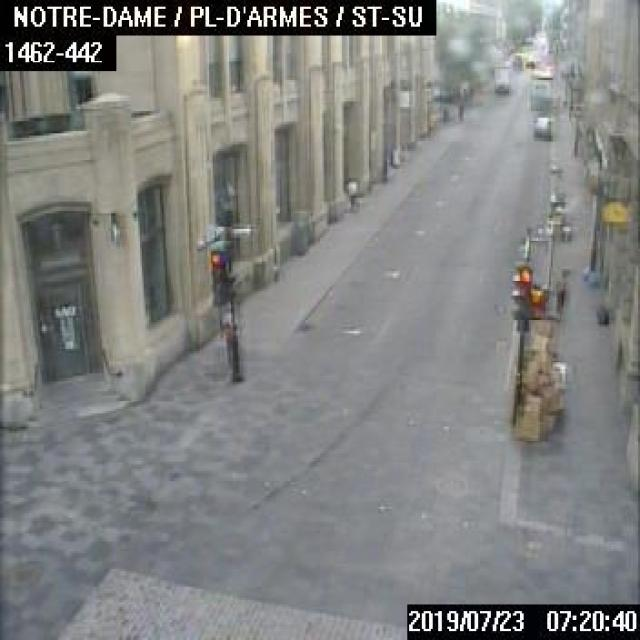pedestrian: (555, 267, 567, 311)
vehicle: (528, 67, 554, 110), (491, 67, 509, 93), (532, 115, 551, 138), (508, 51, 522, 68)
